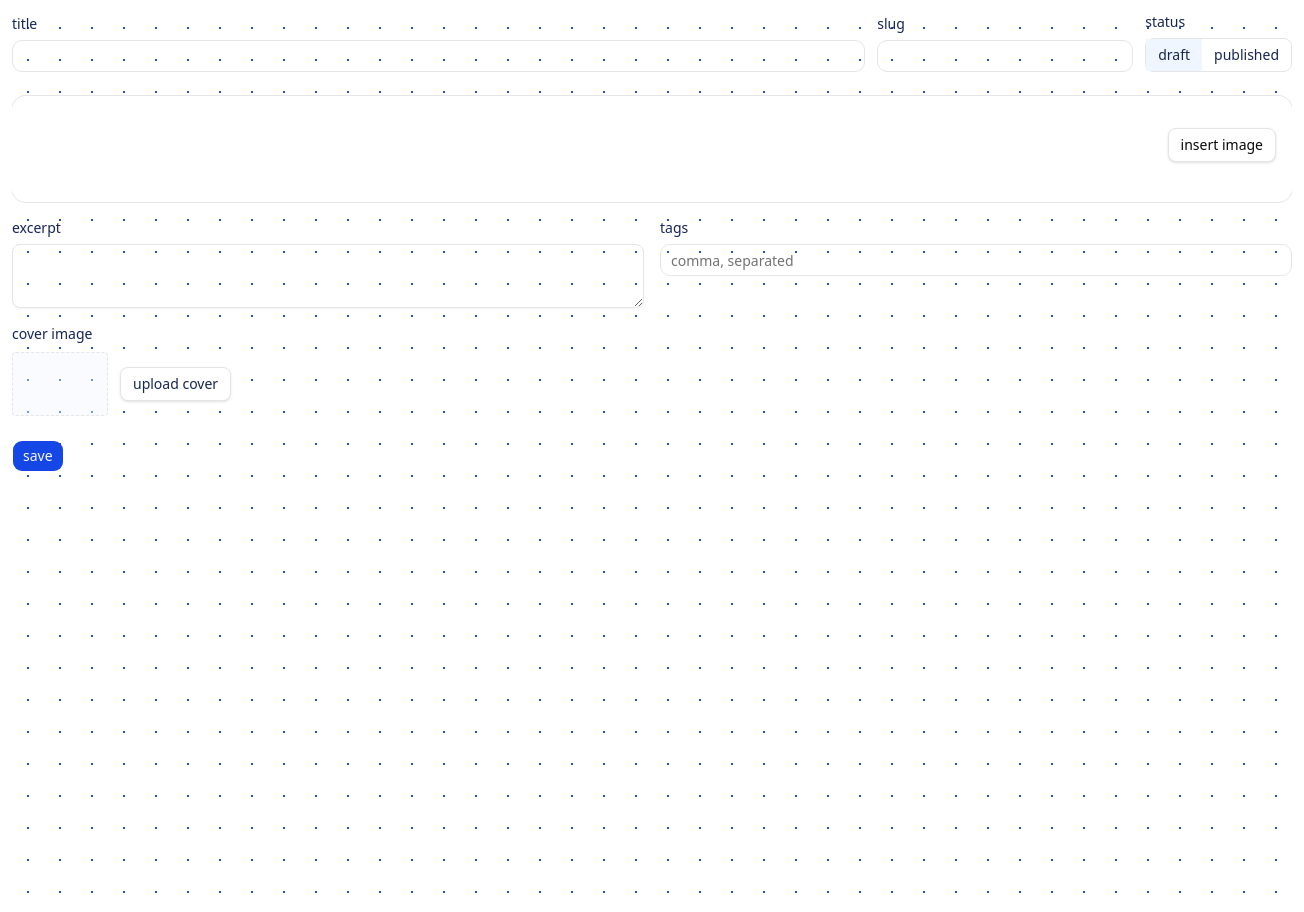
Test: <AdminPostEditor mode="new" /> › auto-derives slug from title
Type "Hello World" into the field labelled "title" at (439,56), box [12,40,865,72]
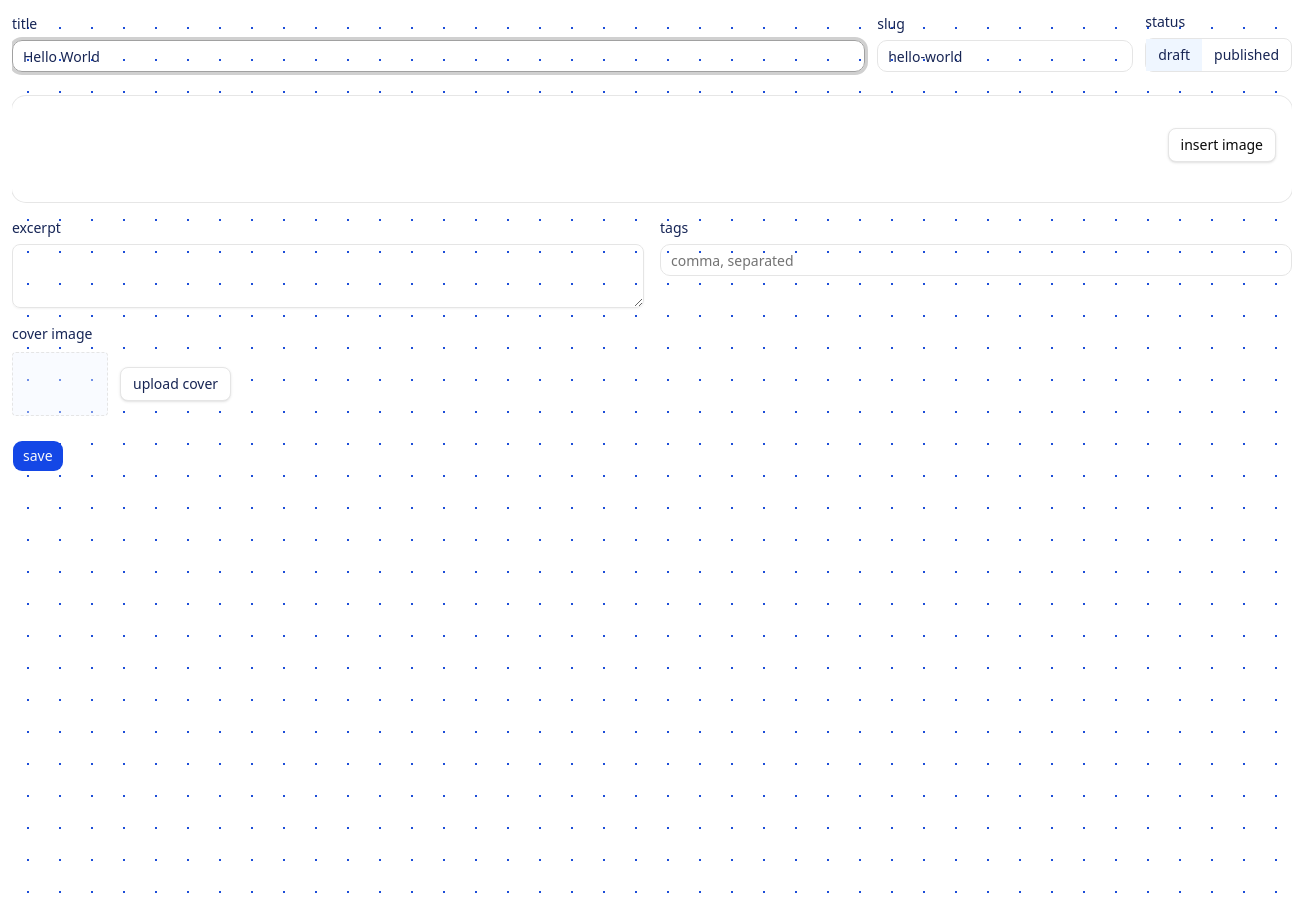
Now the field labelled "slug" holds "hello-world", box [877,40,1133,72]
